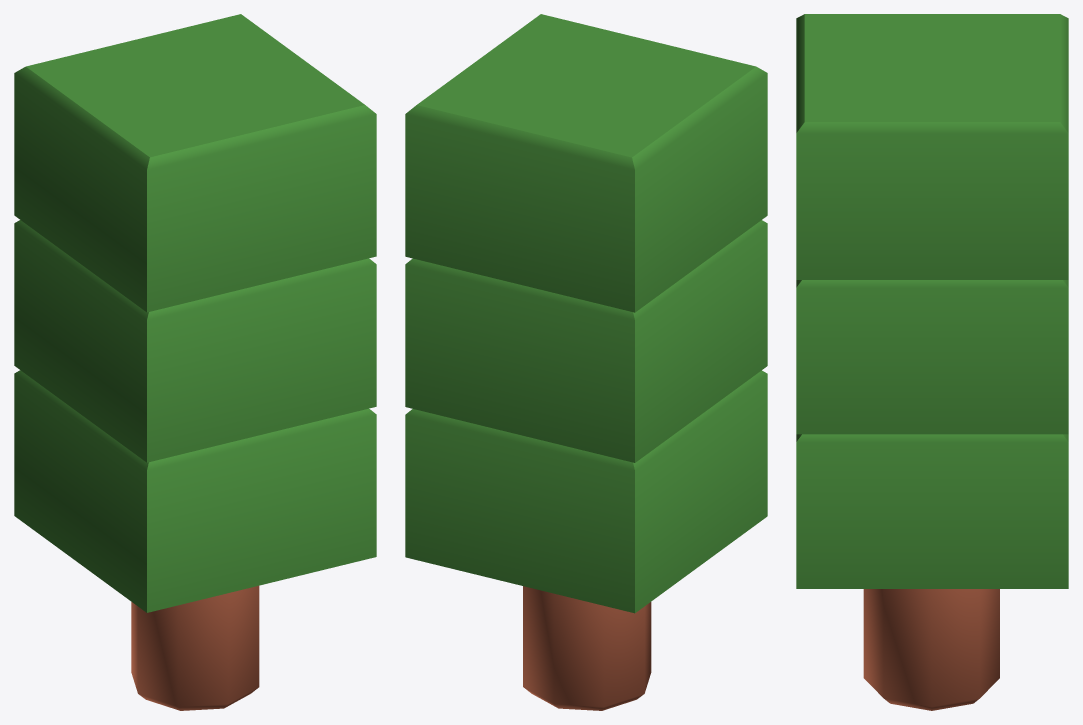
The model's file is tree04.glb.
3 views of the same model, side by side, from view 1: azimuth 30°, elevation 25°; view 2: azimuth 150°, elevation 25°; view 3: azimuth 270°, elevation 25° (orthographic). The views are drawn at different scales.
Visible parts, largest first — view 1: none-hq-brick-1x1-round.002; view 2: none-hq-brick-1x1-round.002; view 3: none-hq-brick-1x1-round.002.
Part boxes in pixels (x1,y1,x2,y2): none-hq-brick-1x1-round.002: (14,14,376,710); none-hq-brick-1x1-round.002: (405,14,767,710); none-hq-brick-1x1-round.002: (796,14,1068,710).
Size of the model in its own units: 1 by 2.51 by 1.
